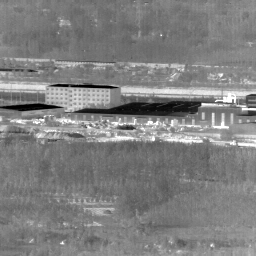aircraft: (84, 50, 86, 52)
